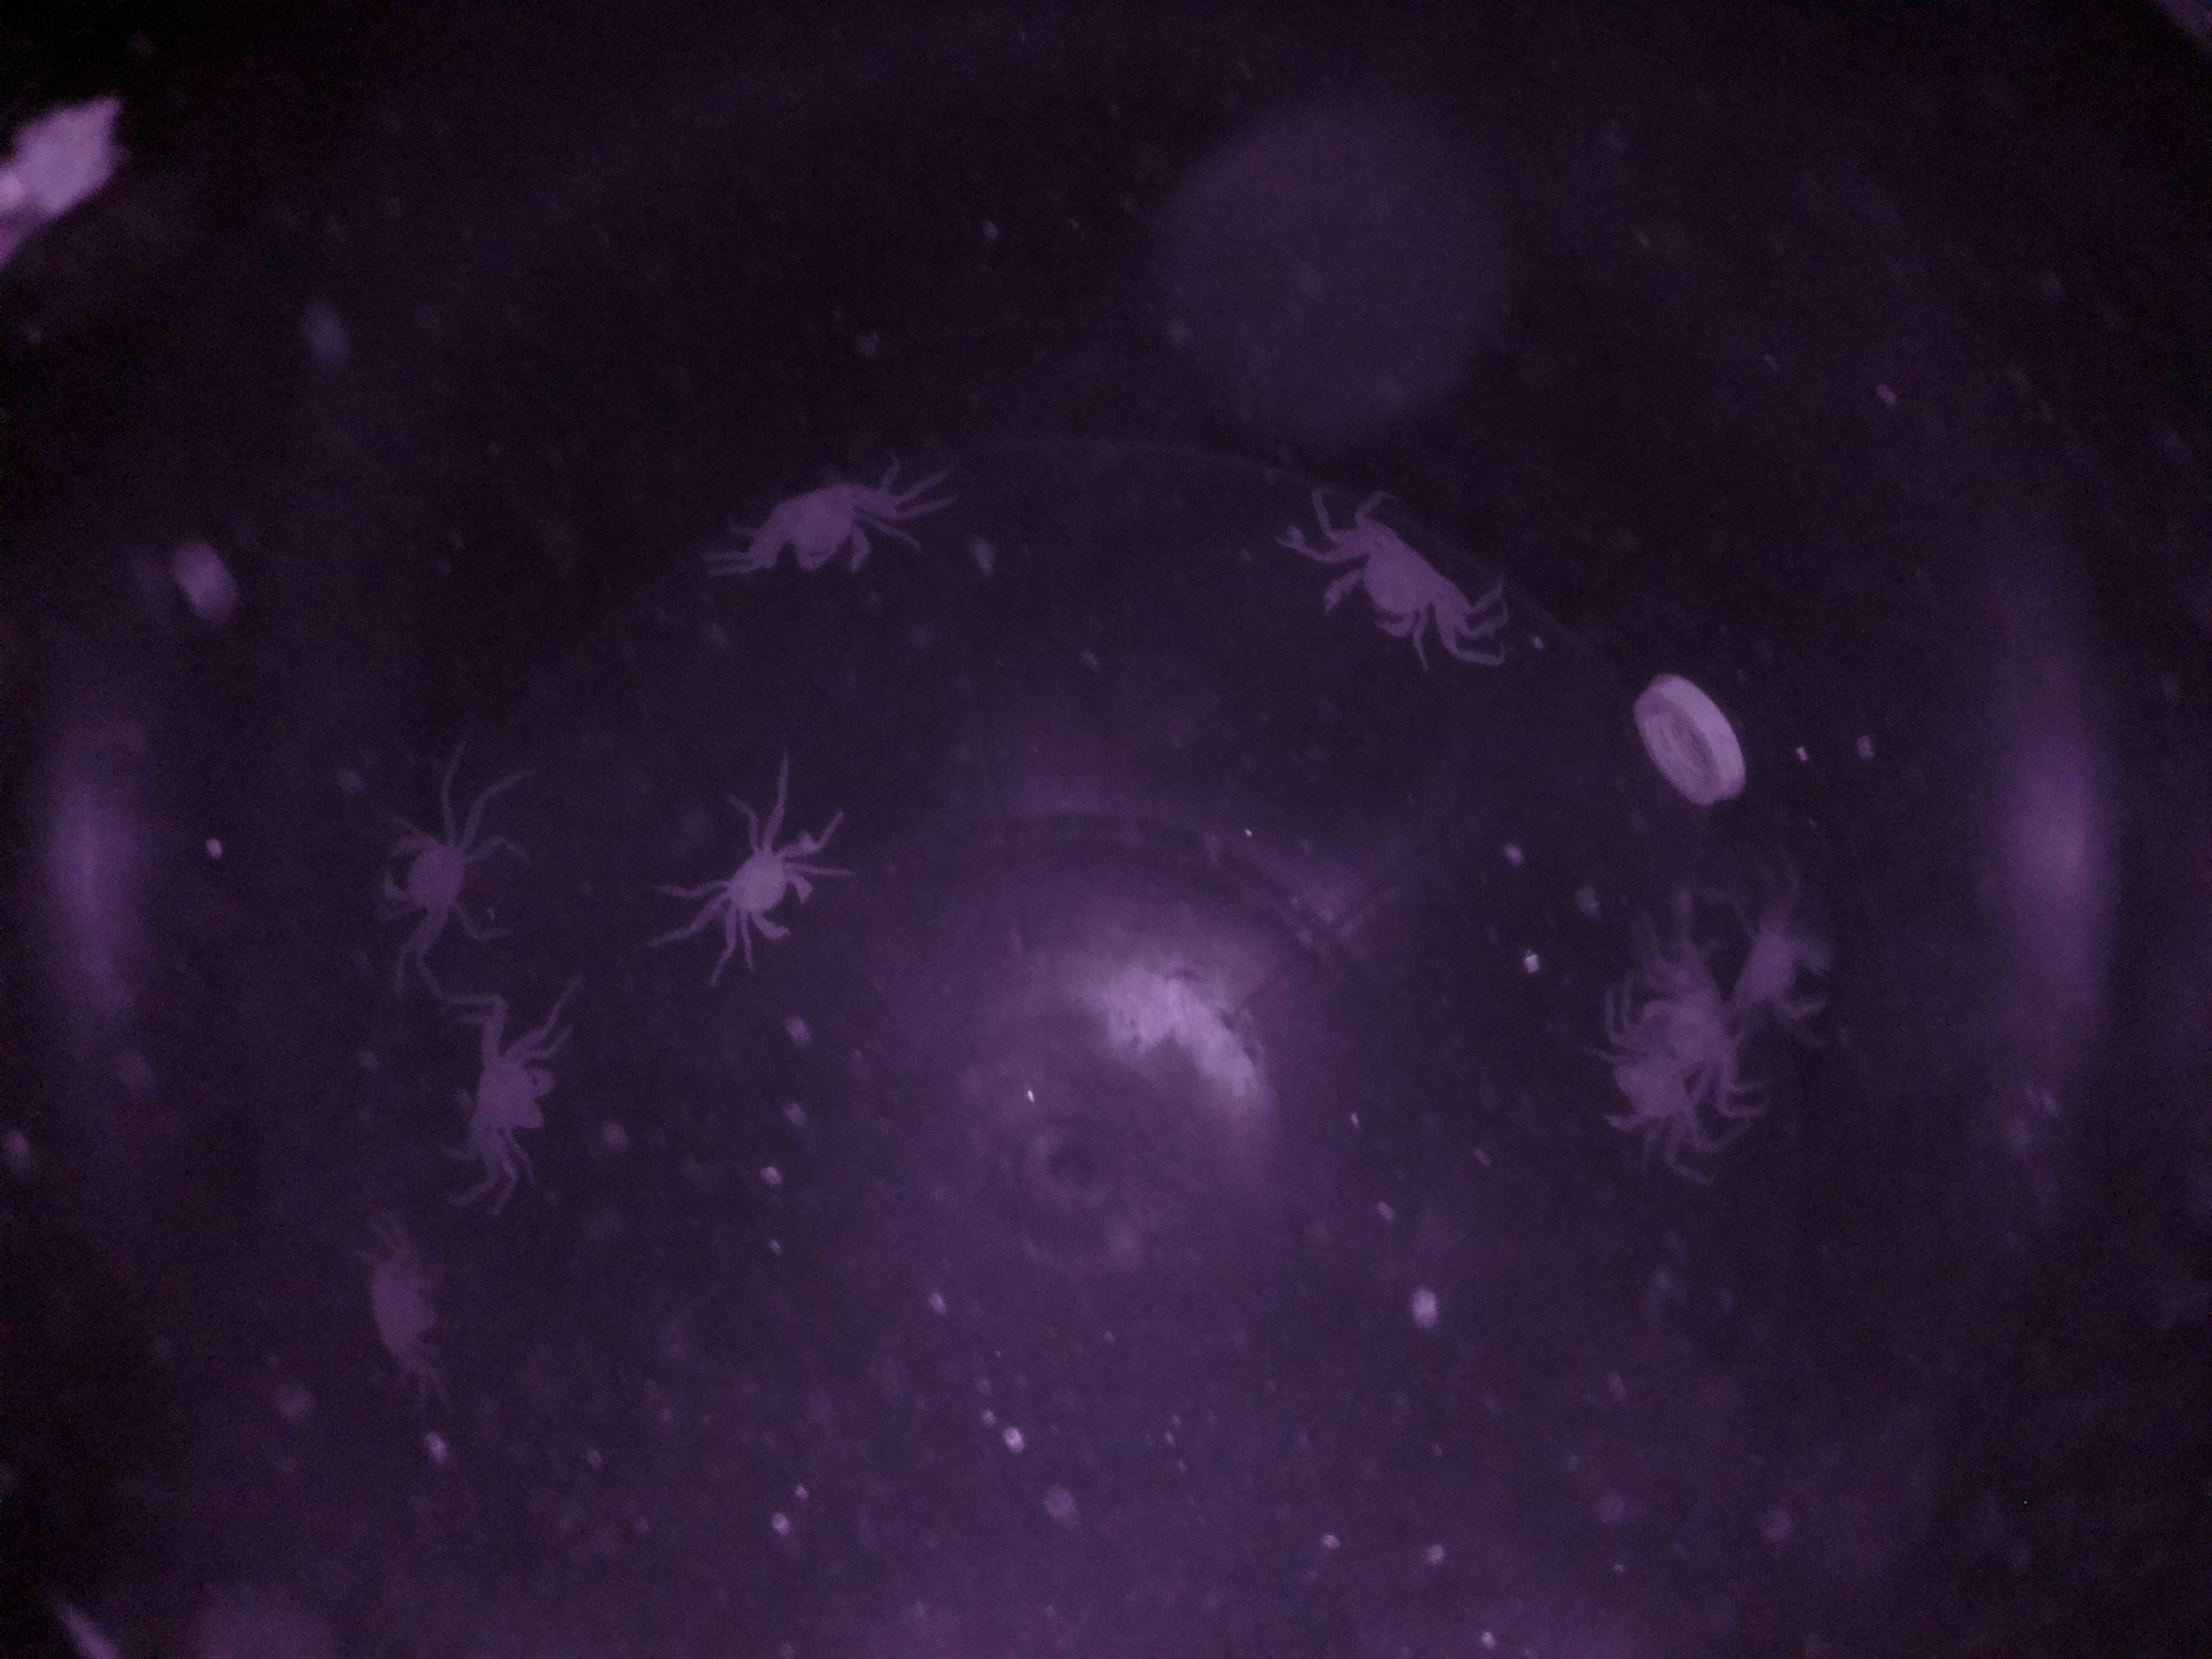Crab: (1305, 493, 1491, 671), (695, 805, 846, 967), (357, 777, 503, 943), (432, 1018, 589, 1162)
